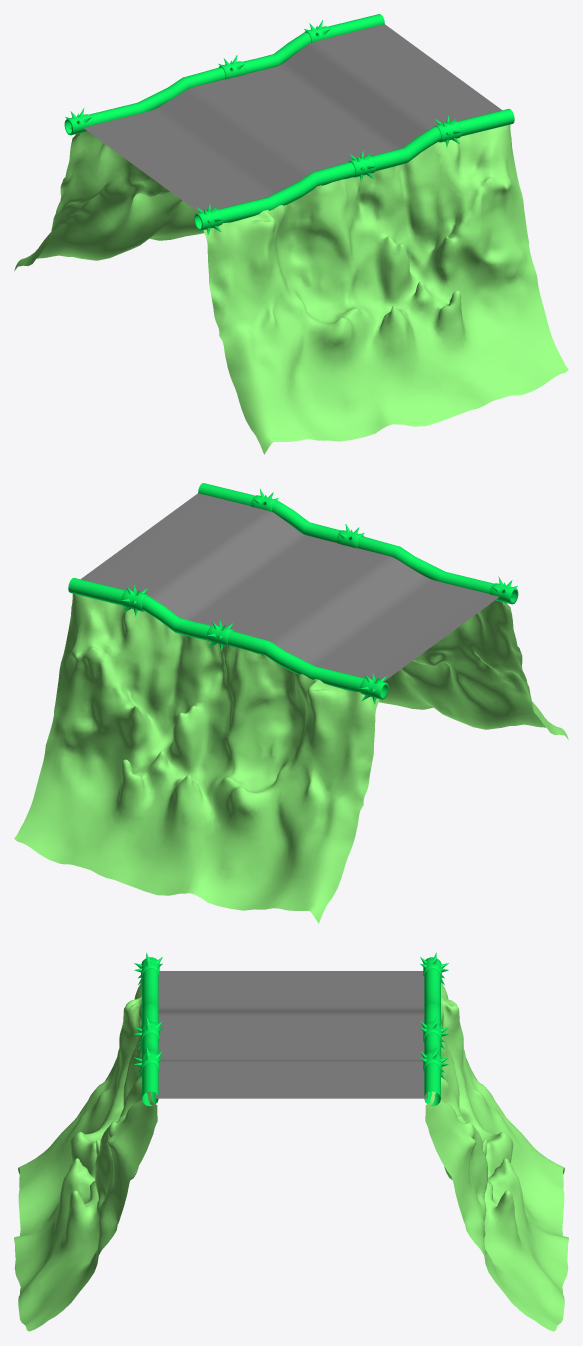
The model's file is Track_Ice_08.fbx.
3 renders of one model, top to bottom at view 1: azimuth 30°, elevation 25°; view 2: azimuth 150°, elevation 25°; view 3: azimuth 270°, elevation 25°, orthographic. The views are drawn at different scales.
Parts seen in each view (by area): view 1: Track_Ice_08_walls, Track_Ice_08; view 2: Track_Ice_08_walls, Track_Ice_08; view 3: Track_Ice_08_walls, Track_Ice_08.
Boxes of the visible parts, x1,y1,x2,y2 form: Track_Ice_08_walls: (14, 14, 568, 454); Track_Ice_08: (84, 24, 501, 212); Track_Ice_08_walls: (14, 483, 568, 923); Track_Ice_08: (81, 493, 498, 681); Track_Ice_08_walls: (14, 952, 568, 1331); Track_Ice_08: (155, 971, 427, 1098).
Size of what is drawn, in the model's own units: 3133 by 4392 by 2297.
